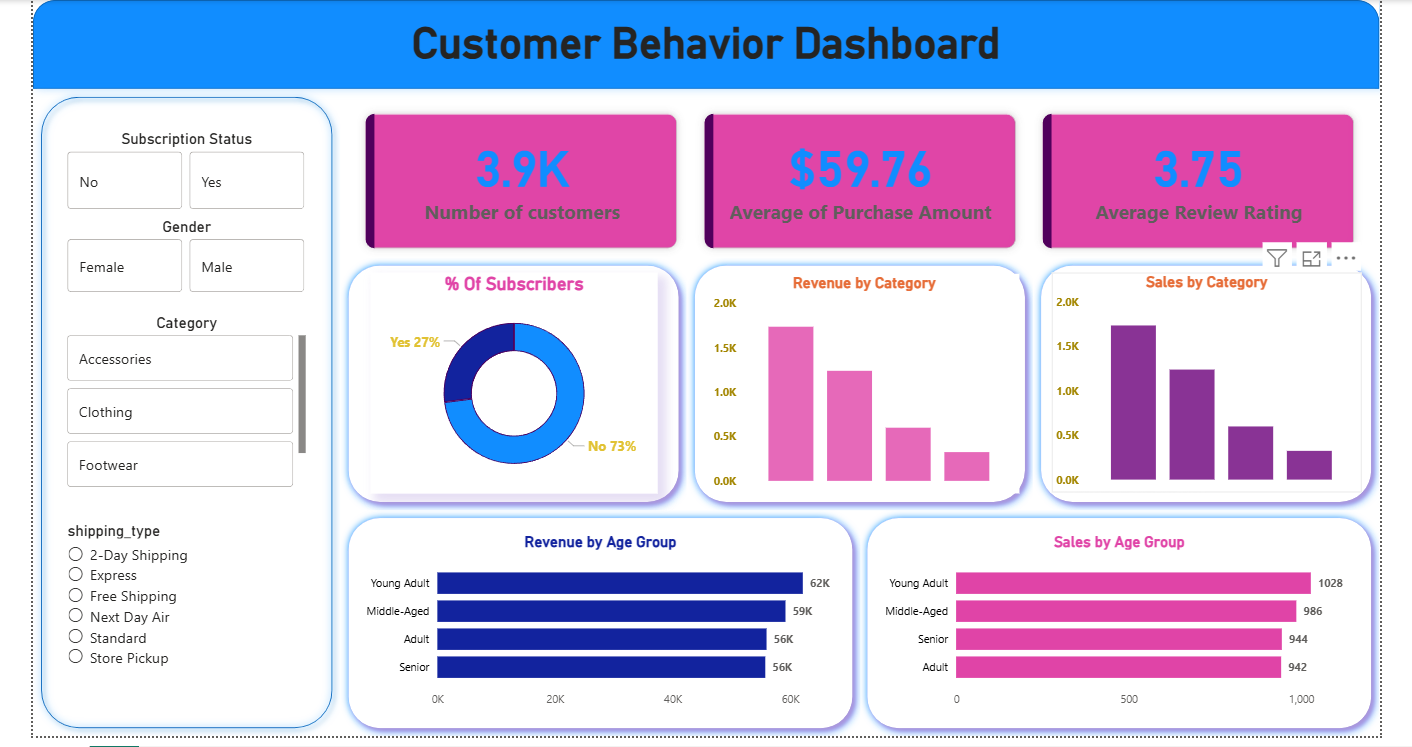

This screenshot's page, from the dashboard's own definition file:
{"tool":"powerbi","page":{"name":"Page 1","canvas":[1500,820],"ordinal":0},"visuals":[{"type":"cardVisual","fields":{"Data":["public c_retails.Number of customers","public c_retails.Average of Purchase Amount","public c_retails.Average Review Rating"]},"box":[342.6,98.9,1157.3,206.1],"z":0},{"type":"shape","box":[342.6,286.9,385.8,281.3],"z":0,"group":"g1"},{"type":"shape","box":[0,0,1499.9,98.9],"z":1000},{"type":"textbox","box":[0,0,1499.9,89.1],"z":2000},{"type":"shape","box":[1114.1,286.9,385.8,281.3],"z":3000},{"type":"shape","box":[728.4,286.9,385.8,281.3],"z":4000},{"type":"group","id":"g1","title":"Group 1","box":[342.6,286.9,385.8,281.3],"z":5000},{"type":"donutChart","title":"% Of Subscribers","fields":{"Category":["public c_retails.subscription_status"],"Y":["CountNonNull(public c_retails.customer_id)"]},"box":[376,303.6,320.3,246.5],"z":5500,"group":"g1"},{"type":"clusteredColumnChart","title":"Revenue by Category","fields":{"Y":["CountNonNull(public c_retails.purchase_amount)"],"Category":["public c_retails.category"]},"box":[753.8,304.7,345.5,244.9],"z":6000},{"type":"clusteredColumnChart","title":"Sales by Category","fields":{"Y":["CountNonNull(public c_retails.customer_id)"],"Category":["public c_retails.category"]},"box":[1136.4,303.6,345.4,245.1],"z":7000},{"type":"shape","box":[0,98.9,342.6,721.4],"z":8000},{"type":"advancedSlicerVisual","fields":{"Values":["public c_retails.subscription_status"]},"box":[33.4,144.8,275.7,93.3],"z":9000},{"type":"advancedSlicerVisual","fields":{"Values":["public c_retails.gender"]},"box":[33.4,242.3,275.7,89.1],"z":10000},{"type":"advancedSlicerVisual","fields":{"Values":["public c_retails.category"]},"box":[33.4,349.6,275.7,199.2],"z":11000},{"type":"listSlicer","fields":{"Values":["public c_retails.shipping_type"]},"box":[33.4,580.7,257.6,215.9],"z":12000},{"type":"shape","box":[342.6,568.2,579.4,252.1],"z":13000},{"type":"clusteredBarChart","title":"Revenue by Age Group","fields":{"Y":["Sum(public c_retails.purchase_amount)"],"Category":["public c_retails.age_group"]},"box":[360.7,593.3,543.1,204.7],"z":14000},{"type":"shape","box":[920.6,568.2,579.4,252.1],"z":15000},{"type":"clusteredBarChart","title":"Sales by Age Group","fields":{"Y":["CountNonNull(public c_retails.customer_id)"],"Category":["public c_retails.age_group"]},"box":[938.7,593.3,543.1,204.7],"z":15001}]}

Visuals, with their boxes in screenshot pixels (x1, y1, x2, y2):
cardVisual - public c_retails.Number of customers x public c_retails.Average of Purchase Amount: BBox(333, 89, 1372, 274)
shape: BBox(333, 258, 680, 510)
shape: BBox(26, 0, 1372, 89)
textbox: BBox(26, 0, 1372, 80)
shape: BBox(1026, 258, 1372, 510)
shape: BBox(680, 258, 1026, 510)
"Group 1" group: BBox(333, 258, 680, 510)
"% Of Subscribers" donutChart: BBox(363, 273, 651, 494)
"Revenue by Category" clusteredColumnChart: BBox(702, 274, 1013, 493)
"Sales by Category" clusteredColumnChart: BBox(1046, 273, 1356, 493)
shape: BBox(26, 89, 333, 736)
advancedSlicerVisual - public c_retails.subscription_status: BBox(56, 130, 303, 214)
advancedSlicerVisual - public c_retails.gender: BBox(56, 218, 303, 298)
advancedSlicerVisual - public c_retails.category: BBox(56, 314, 303, 493)
listSlicer - public c_retails.shipping_type: BBox(56, 521, 287, 715)
shape: BBox(333, 510, 853, 736)
"Revenue by Age Group" clusteredBarChart: BBox(350, 533, 837, 716)
shape: BBox(852, 510, 1372, 736)
"Sales by Age Group" clusteredBarChart: BBox(868, 533, 1356, 716)
